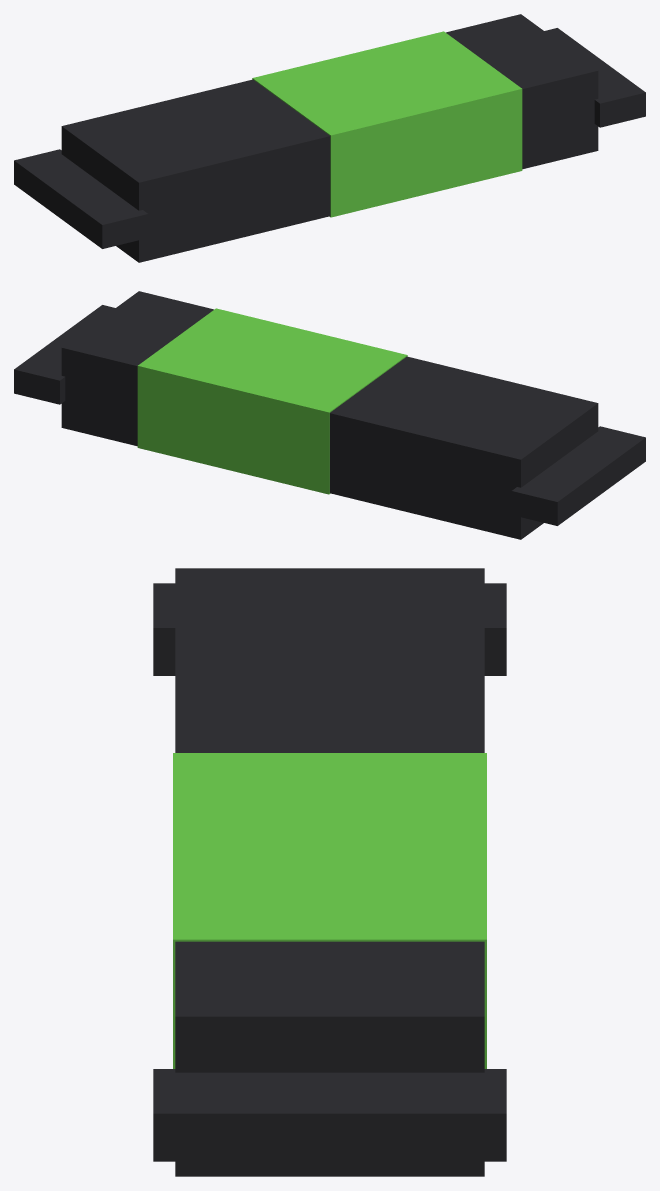
The model's file is protein-bar.glb.
3 views of the same model, one above another, from view 1: azimuth 30°, elevation 25°; view 2: azimuth 150°, elevation 25°; view 3: azimuth 270°, elevation 25° (orthographic). The views are drawn at different scales.
Visible parts, largest first — view 1: protein_bar; view 2: protein_bar; view 3: protein_bar.
Part boxes in pixels (bbox=[...]): protein_bar: bbox=[14, 14, 645, 262]; protein_bar: bbox=[14, 291, 645, 539]; protein_bar: bbox=[153, 568, 506, 1176].
Bounding box in the file's own units: 0.142 × 0.0205 × 0.04.
